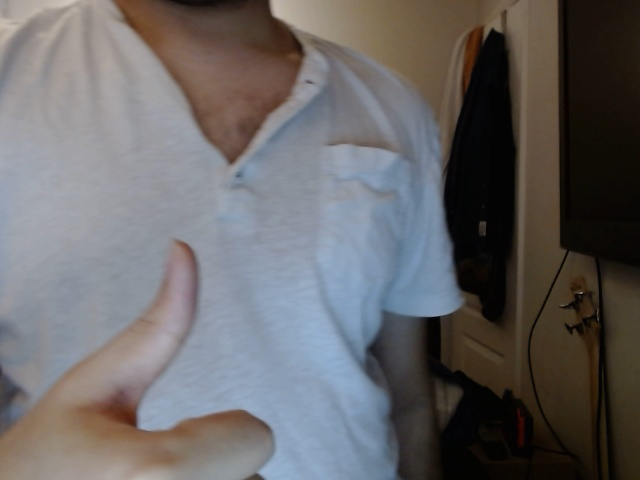Thumbs up: (1, 232, 282, 480)
